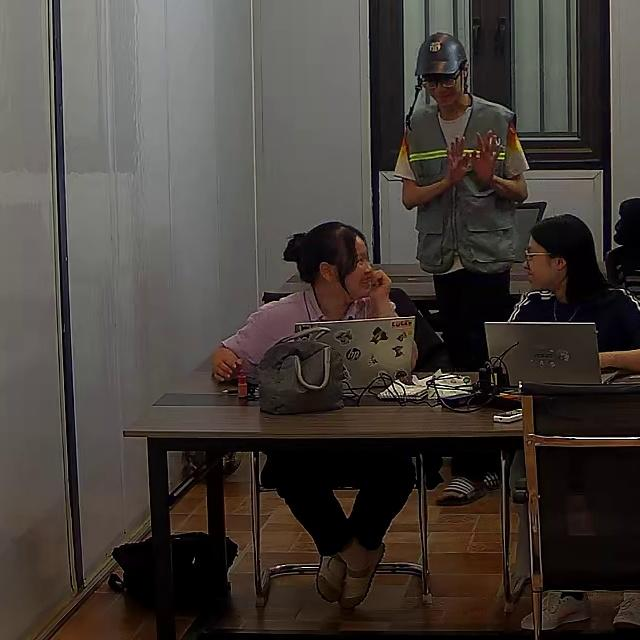helmet: (414, 32, 468, 76)
no_helmet: (527, 214, 613, 302), (285, 221, 361, 285)
none: (219, 286, 387, 378), (509, 285, 639, 355)
vest: (397, 95, 528, 271)
